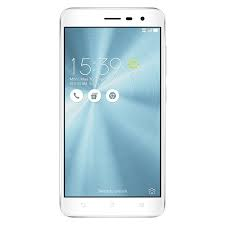asus: (56, 3, 168, 217)
